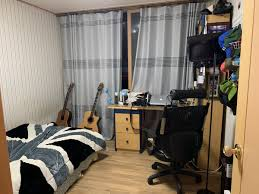Bed: (3, 119, 102, 194)
Chair: (144, 88, 209, 194)
curtain: (61, 14, 119, 134), (134, 4, 204, 98)
